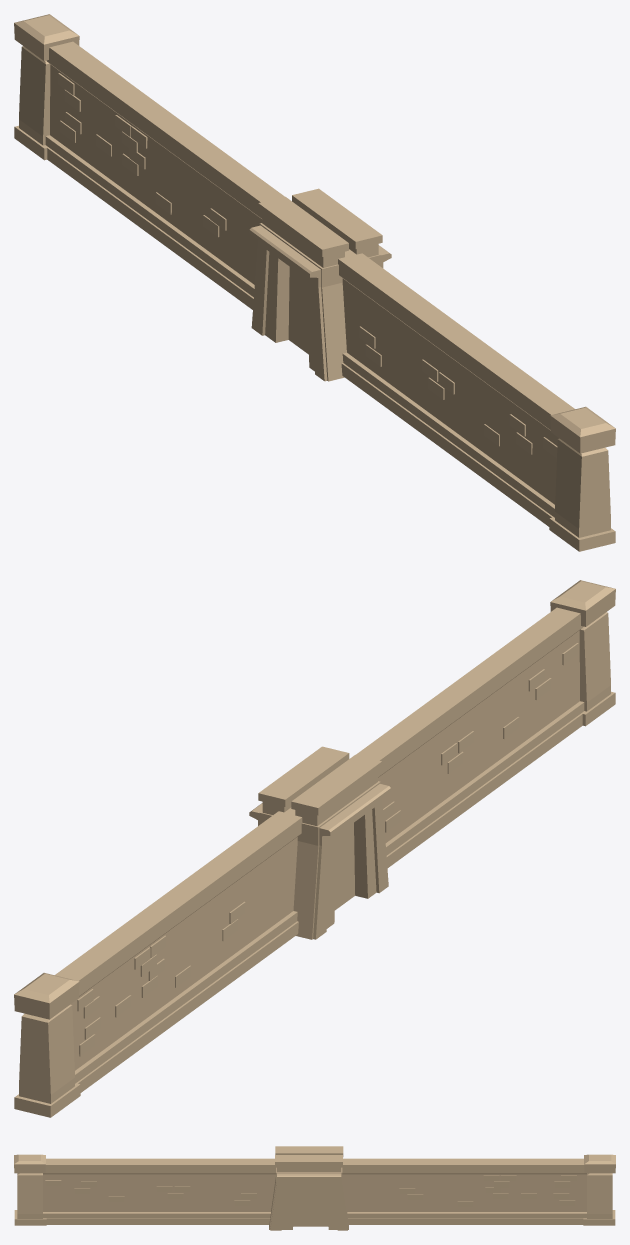
The model's file is egypt_barrierwall.fbx.
3 renders of one model, top to bottom at view 1: azimuth 30°, elevation 25°; view 2: azimuth 150°, elevation 25°; view 3: azimuth 270°, elevation 25°, orthographic. The views are drawn at different scales.
Visible parts, largest first — view 1: barrierwall; view 2: barrierwall; view 3: barrierwall.
Boxes of the visible parts, <box> form: barrierwall: <box>14,14,615,551</box>; barrierwall: <box>14,580,615,1117</box>; barrierwall: <box>14,1146,615,1230</box>.
Bounding box in the file's own units: 4.21 × 6.32 × 50.78.
